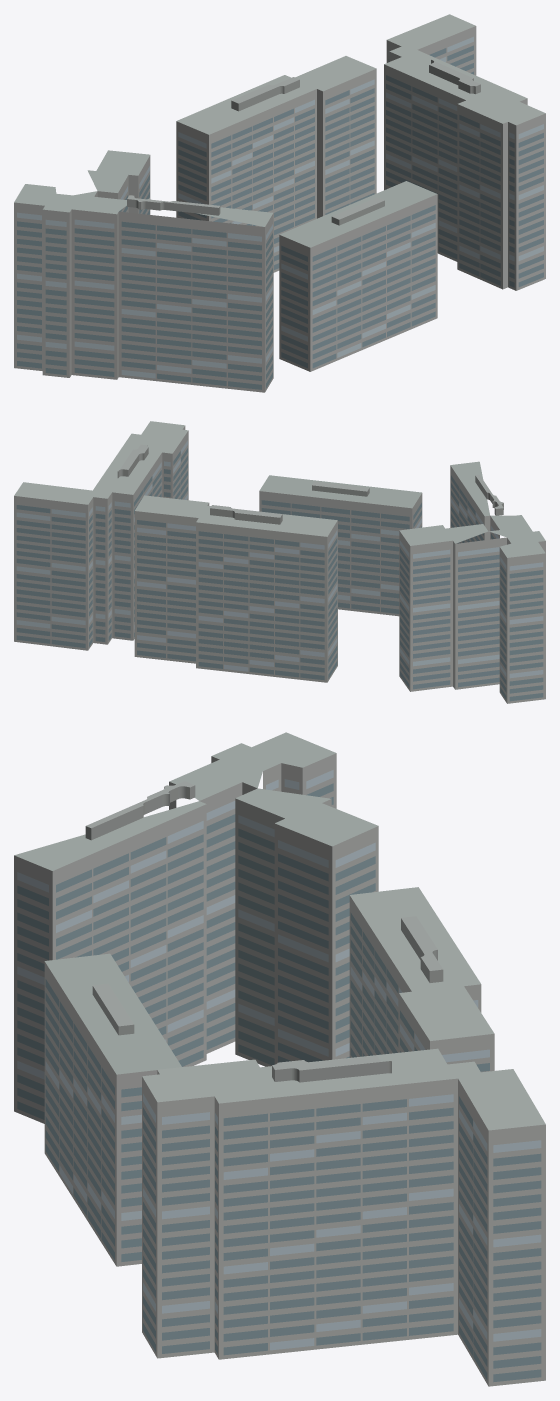
Rendered from apt-a13009001.glb.
3 views of the same model, one above another, from view 1: azimuth 30°, elevation 25°; view 2: azimuth 150°, elevation 25°; view 3: azimuth 270°, elevation 25° (orthographic). The views are drawn at different scales.
Parts seen in each view (by area): view 1: apt-a13009001; view 2: apt-a13009001; view 3: apt-a13009001.
Boxes of the visible parts, x1,y1,x2,y2 form: apt-a13009001: (14, 14, 545, 392); apt-a13009001: (14, 421, 545, 703); apt-a13009001: (14, 732, 545, 1386).
Bounding box in the file's own units: 166 × 52 × 93.47.
